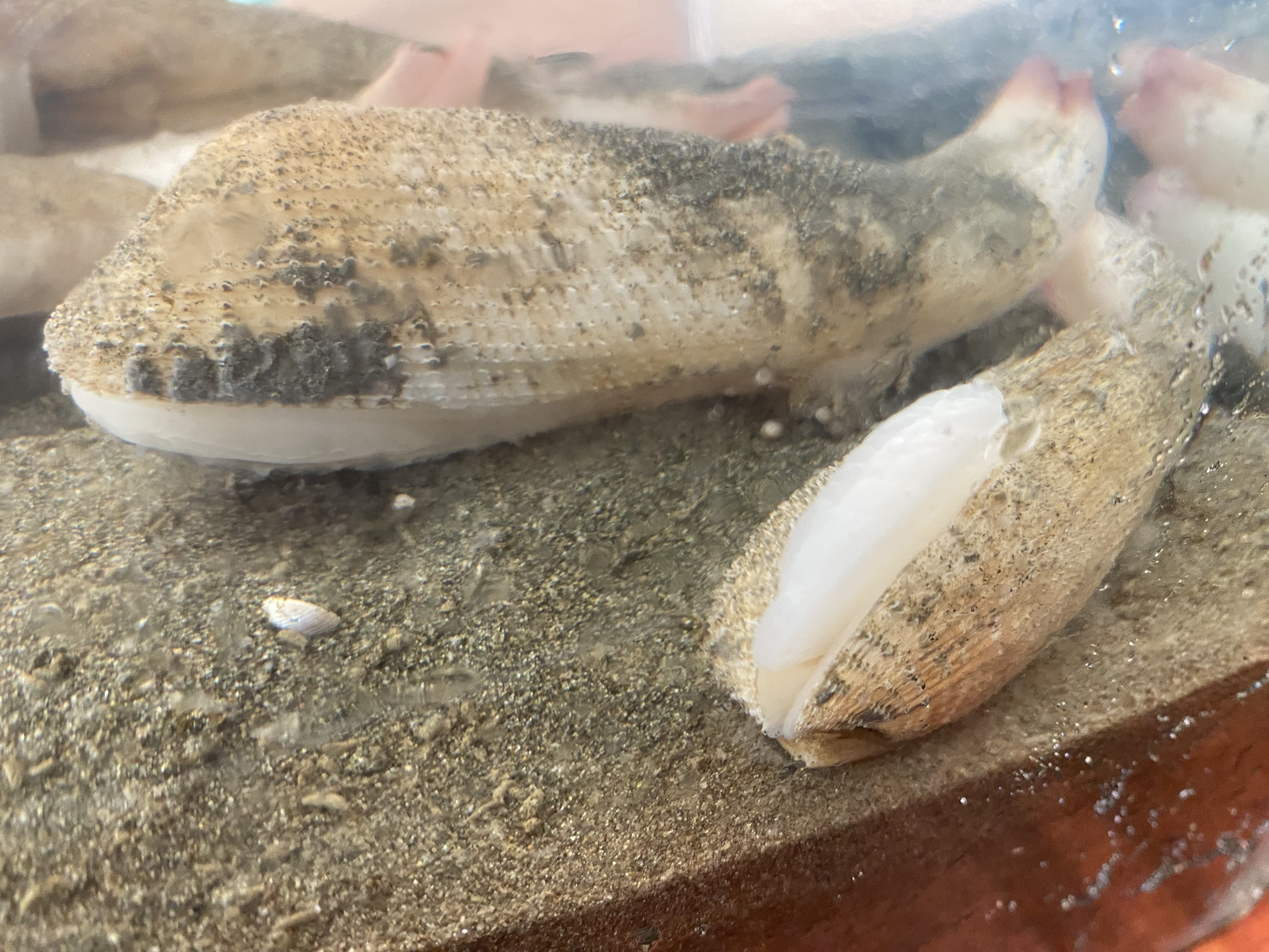Healthy: (47, 63, 1104, 468), (710, 213, 1210, 765), (0, 129, 216, 318), (940, 64, 1107, 247), (352, 34, 493, 107), (710, 85, 783, 137), (667, 99, 714, 131)
